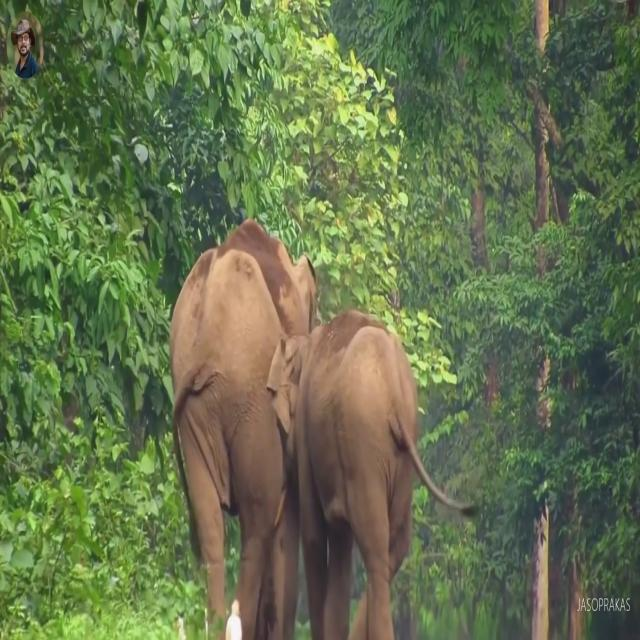Elephant: (266, 307, 477, 639), (168, 217, 318, 639)
person: (225, 598, 242, 640)
